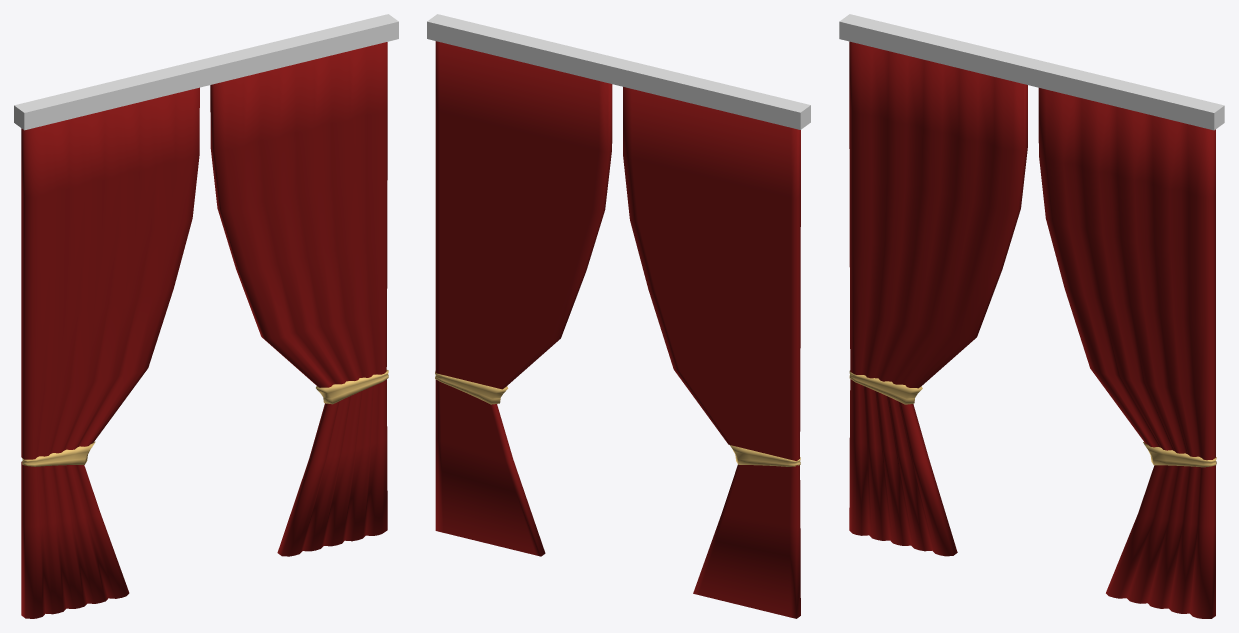
File: Curtains open.fbx
3 views of the same model, side by side, from view 1: azimuth 30°, elevation 25°; view 2: azimuth 150°, elevation 25°; view 3: azimuth 330°, elevation 25° (orthographic).
Visible parts, largest first — view 1: Improved Open curtains, Improved Curtain rail, Improved Curtain holders; view 2: Improved Open curtains, Improved Curtain rail, Improved Curtain holders; view 3: Improved Open curtains, Improved Curtain rail, Improved Curtain holders.
Part boxes in pixels (box(x1,y1,x2,y2)): Improved Open curtains: box(21, 42, 387, 618); Improved Curtain rail: box(14, 14, 398, 130); Improved Curtain holders: box(22, 370, 388, 466); Improved Open curtains: box(435, 41, 800, 618); Improved Curtain rail: box(427, 14, 810, 129); Improved Curtain holders: box(435, 371, 800, 466); Improved Open curtains: box(849, 41, 1215, 618); Improved Curtain rail: box(839, 14, 1224, 130); Improved Curtain holders: box(849, 370, 1216, 467).
Bounding box in the file's own units: 649 × 845 × 31.25.
